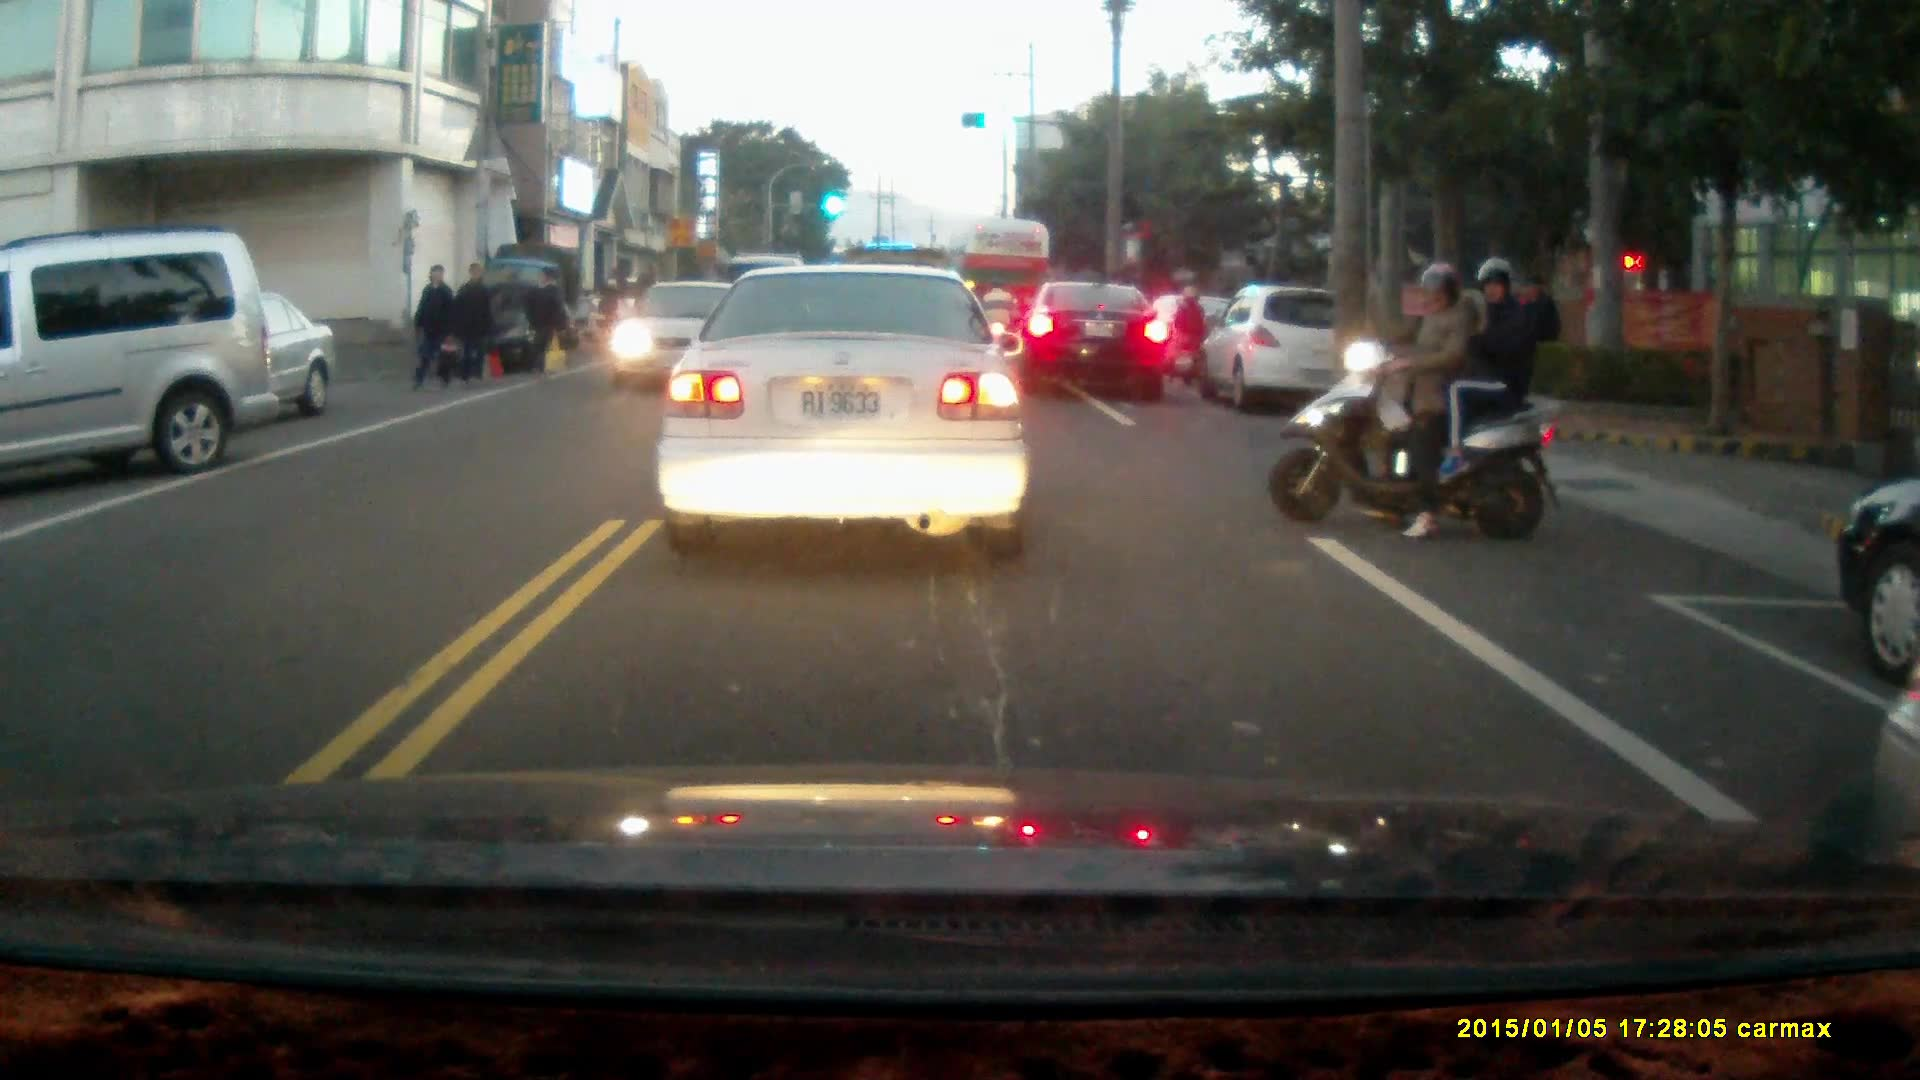pedestrian: (1511, 271, 1562, 392), (411, 263, 457, 391), (519, 263, 564, 374), (453, 260, 493, 385), (598, 261, 630, 350), (630, 262, 659, 346)
rider: (1268, 256, 1558, 544), (1169, 286, 1209, 390)
vehicle: (652, 263, 1036, 562), (1, 222, 263, 481), (70, 289, 339, 428), (1198, 284, 1379, 416), (1011, 282, 1173, 400), (611, 277, 753, 401), (949, 215, 1057, 355)
